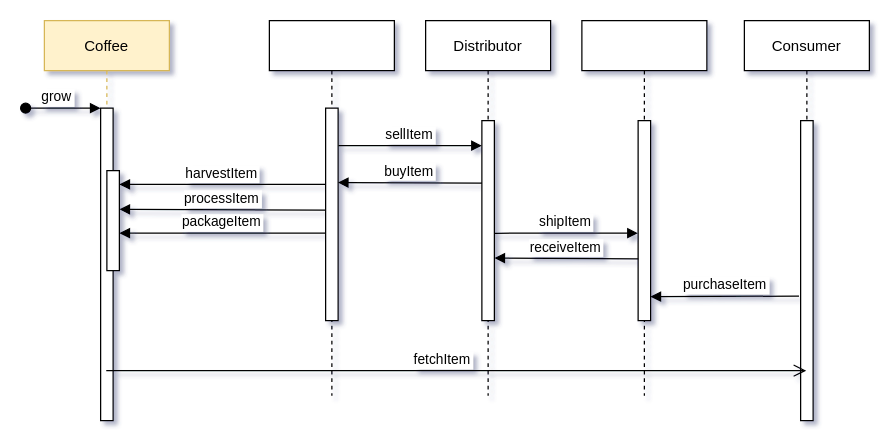
The diagram is 890 pixels wide and 441 high, and some of its shapes have lost their labels. Here are the shapes that lost their labels. From the top down, the box of each, then its label:
(268, 19, 394, 396): Farmer
(581, 19, 707, 396): Retailer
